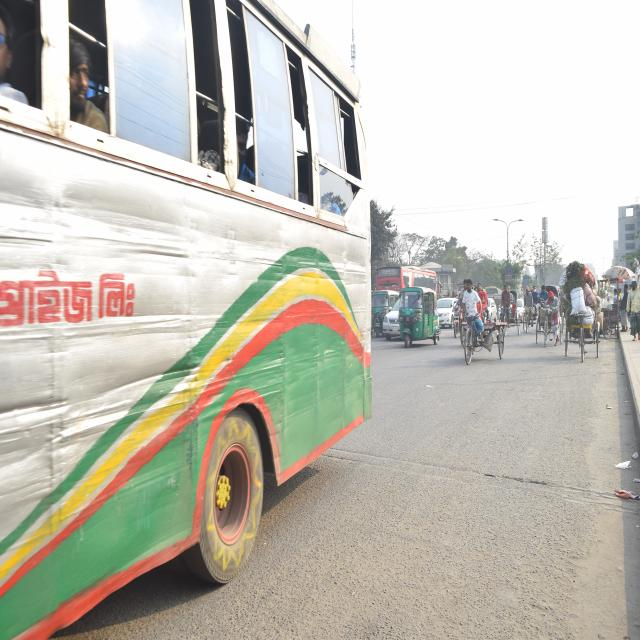bus: (0, 0, 374, 617), (372, 262, 442, 298)
car: (380, 298, 404, 337), (435, 296, 453, 323), (486, 298, 498, 320), (515, 298, 526, 320)
motorbike: (449, 307, 460, 343)
